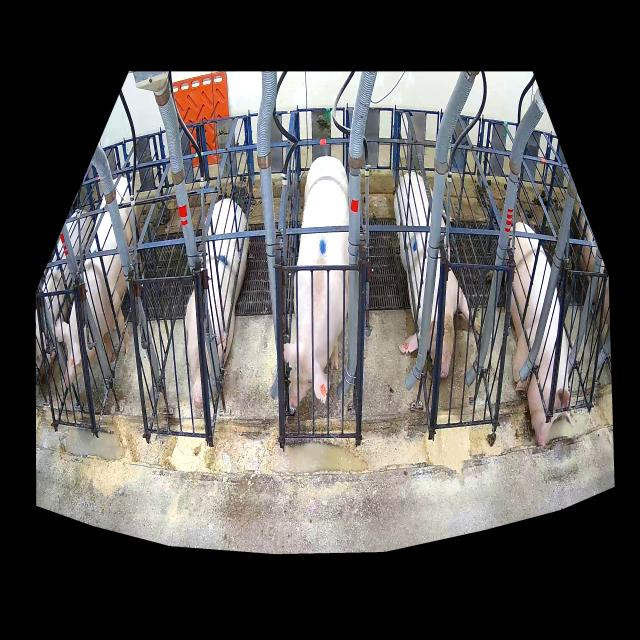pig: (54, 177, 142, 386), (284, 156, 349, 406), (394, 172, 469, 378), (511, 222, 573, 446), (185, 198, 249, 409)
